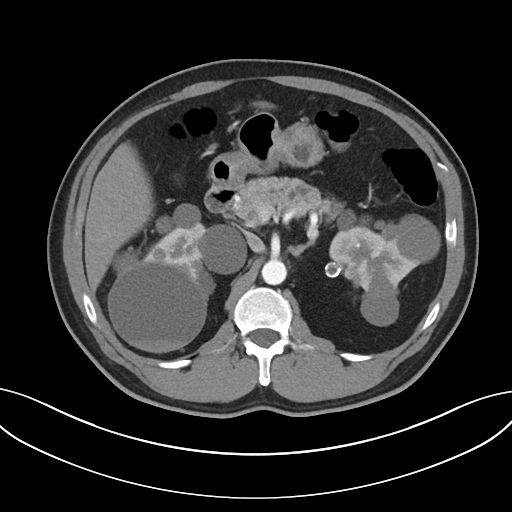Lesion: (105, 256, 209, 356)
